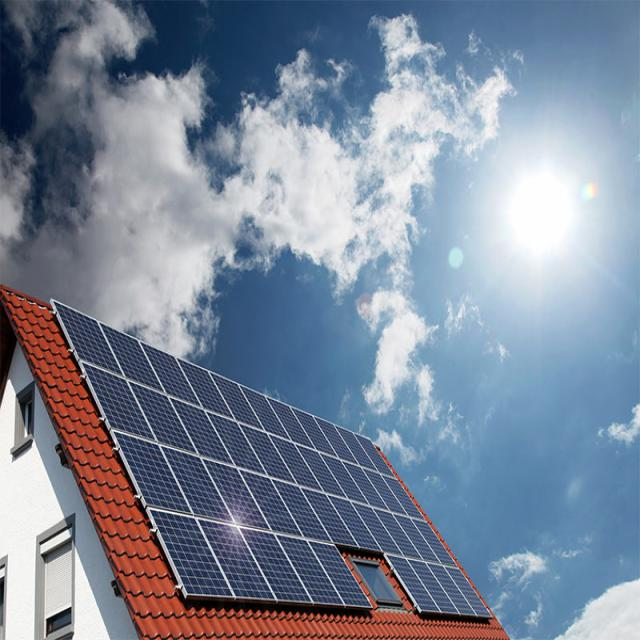clean-solar-panel: (52, 302, 489, 616)
